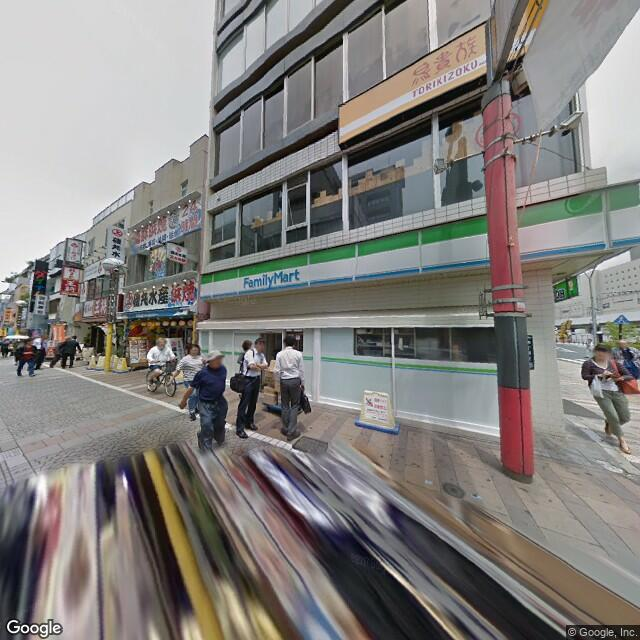family_mart: (199, 179, 639, 299), (240, 266, 304, 292)
